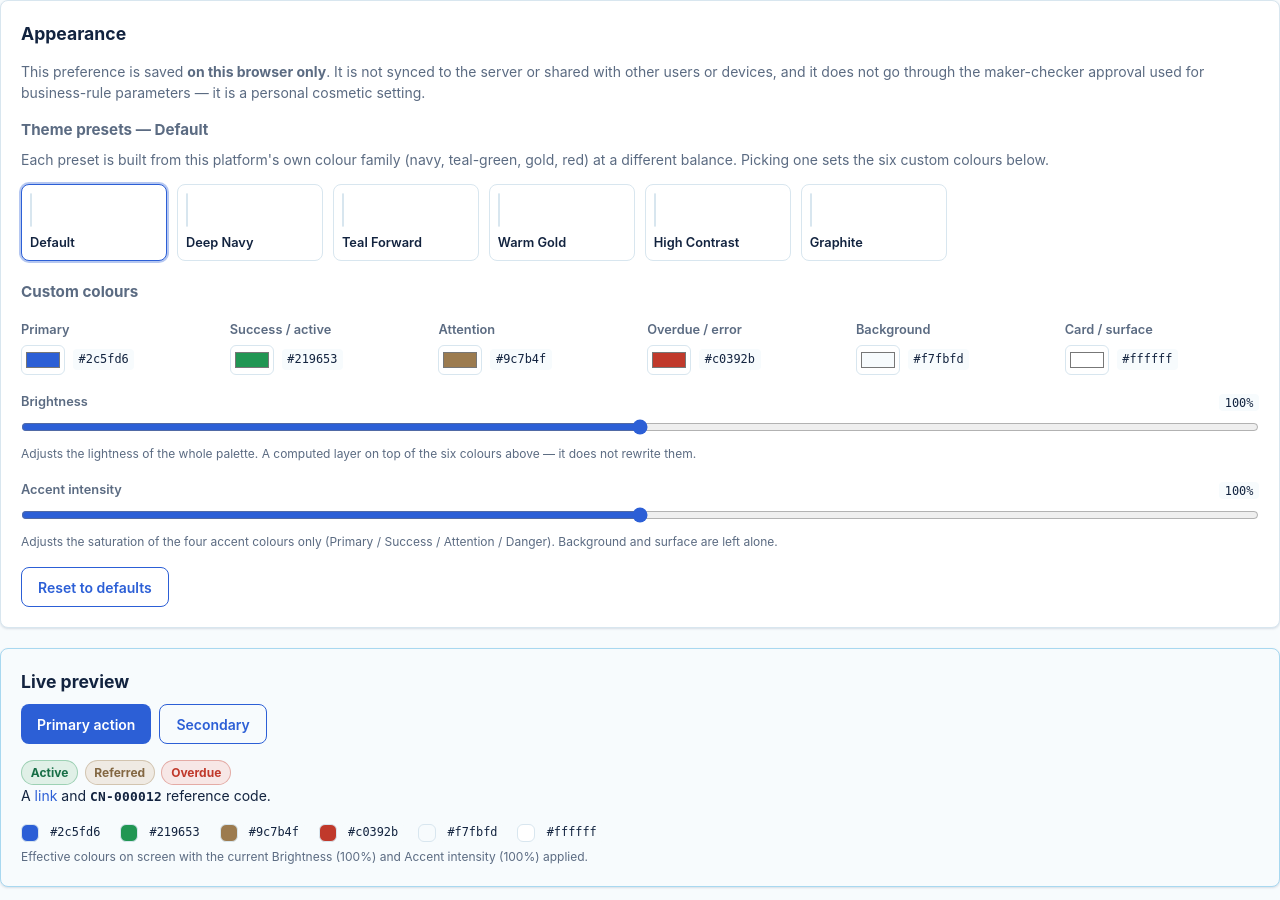
it: Step 17 — preset gallery › selecting a preset updates the live preview and all 6 custom colours
The image size is (1280, 900).
What coordinates should you click on to do the following:
click the radio button with test id "preset-deep-navy"
I would click on:
 (250, 222)
Its box is [177,184,323,261].
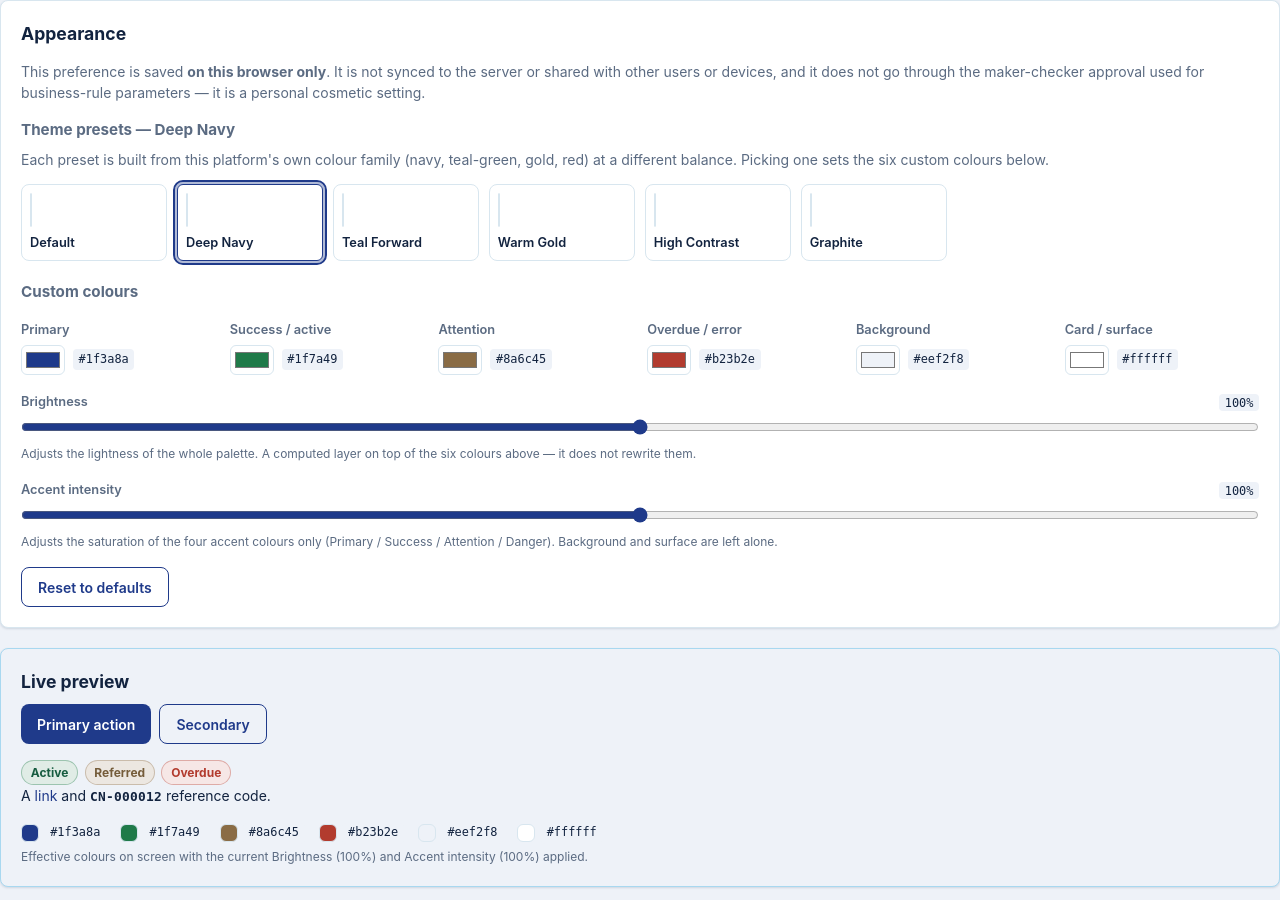
Expected: the text "#1f7a49" below "Success / active" is shown, [287,352,337,366]
Expected: the text "#8a6c45" below "Success / active" is shown, [496,352,546,366]
Expected: the text "#b23b2e" below "Overdue / error" is shown, [705,352,755,366]
